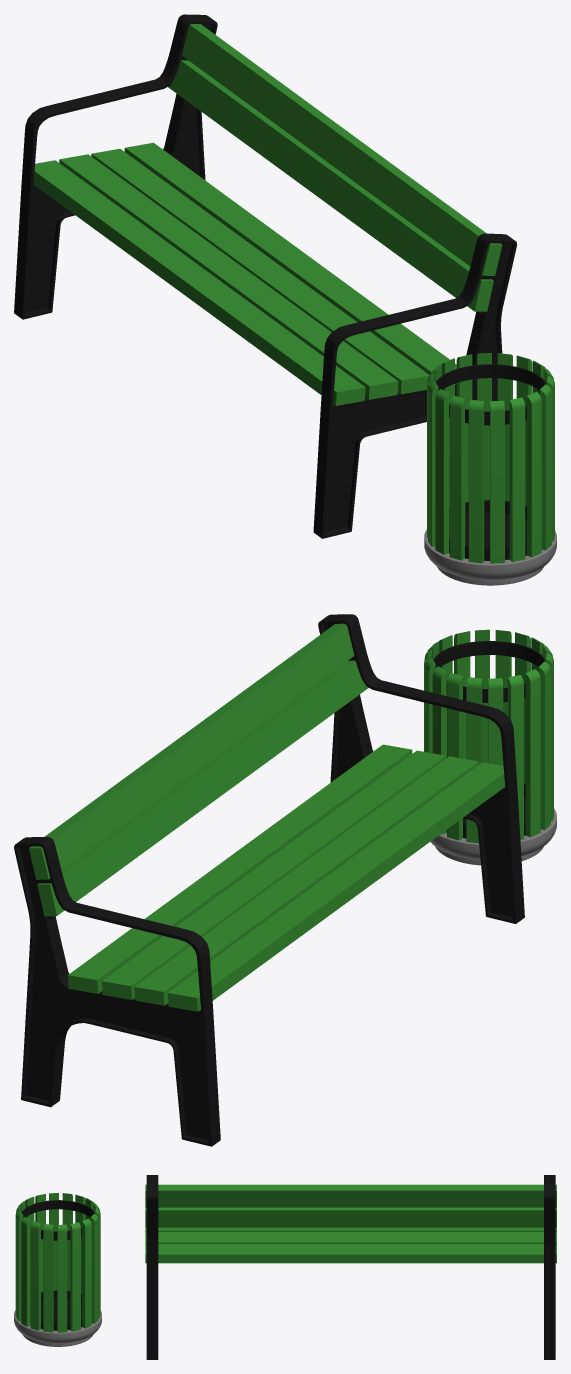
Rendered from GOROD+tamar.FBX.
3 renders of one model, top to bottom at view 1: azimuth 30°, elevation 25°; view 2: azimuth 150°, elevation 25°; view 3: azimuth 270°, elevation 25°, orthographic. The views are drawn at different scales.
Visible parts, largest first — view 1: Plane003, Box137, Box136, Box132, Plane004, Box133, Box134, Box135, Line320, Line337, Line322, Line336 (+10 smaller); view 2: Plane004, Box137, Box136, Box132, Plane003, Box135, Box133, Box134, Line334, Tube017, Line335, Line320 (+9 smaller); view 3: Box137, Box136, Box135, Box134, Plane003, Plane004, Box133, Line320, Line326, Line325, Line327, Line321 (+11 smaller).
Part boxes in pixels (box(x1,y1,x2,y2)): Plane003: box(313, 233, 516, 538); Box137: box(182, 24, 502, 275); Box136: box(168, 60, 493, 311); Box132: box(33, 160, 365, 405); Plane004: box(14, 14, 217, 319); Box133: box(59, 154, 398, 399); Box134: box(91, 148, 429, 394); Box135: box(124, 142, 456, 384); Line320: box(424, 530, 556, 585); Line337: box(468, 399, 484, 563); Line322: box(509, 397, 525, 561); Line336: box(449, 395, 465, 560); Plane004: box(14, 836, 220, 1146); Box137: box(29, 623, 354, 879); Box136: box(37, 660, 368, 916); Box132: box(167, 762, 505, 1011); Plane003: box(318, 614, 524, 923); Box135: box(68, 744, 412, 993); Box133: box(134, 756, 478, 1005); Box134: box(102, 750, 446, 999); Line334: box(525, 669, 540, 837); Tube017: box(433, 641, 545, 702); Line335: box(538, 661, 550, 829); Line320: box(430, 809, 556, 865); Box137: box(145, 1184, 556, 1207); Box136: box(145, 1207, 556, 1227); Box135: box(145, 1244, 556, 1263); Box134: box(145, 1232, 556, 1243); Plane003: box(146, 1175, 158, 1359); Plane004: box(544, 1175, 555, 1359); Box133: box(145, 1227, 556, 1231); Line320: box(14, 1310, 101, 1346); Line326: box(57, 1224, 67, 1332); Line325: box(43, 1224, 53, 1332); Line327: box(70, 1222, 80, 1331); Line321: box(30, 1221, 40, 1330).
Size of the model in its own units: 66.3 by 83.6 by 241.
